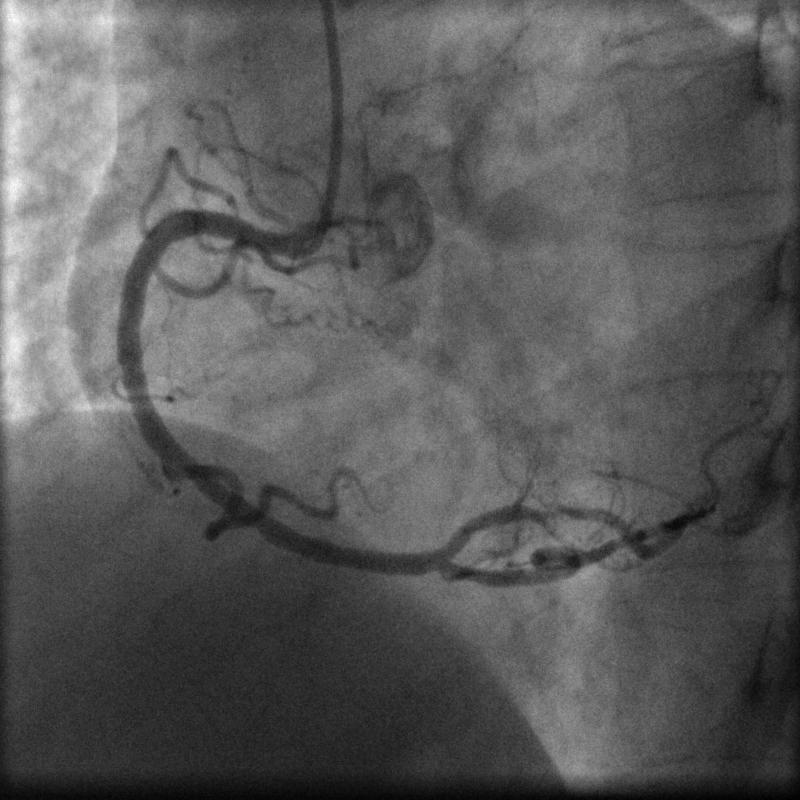Stenosis: (517, 496, 580, 525)
